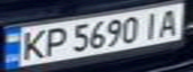0: (118, 14, 145, 44)
5: (66, 20, 90, 53)
6: (87, 18, 109, 51)
9: (103, 16, 127, 47)
A: (154, 6, 187, 38)
I: (139, 8, 166, 39)
K: (15, 27, 51, 62)
P: (39, 25, 69, 57)
